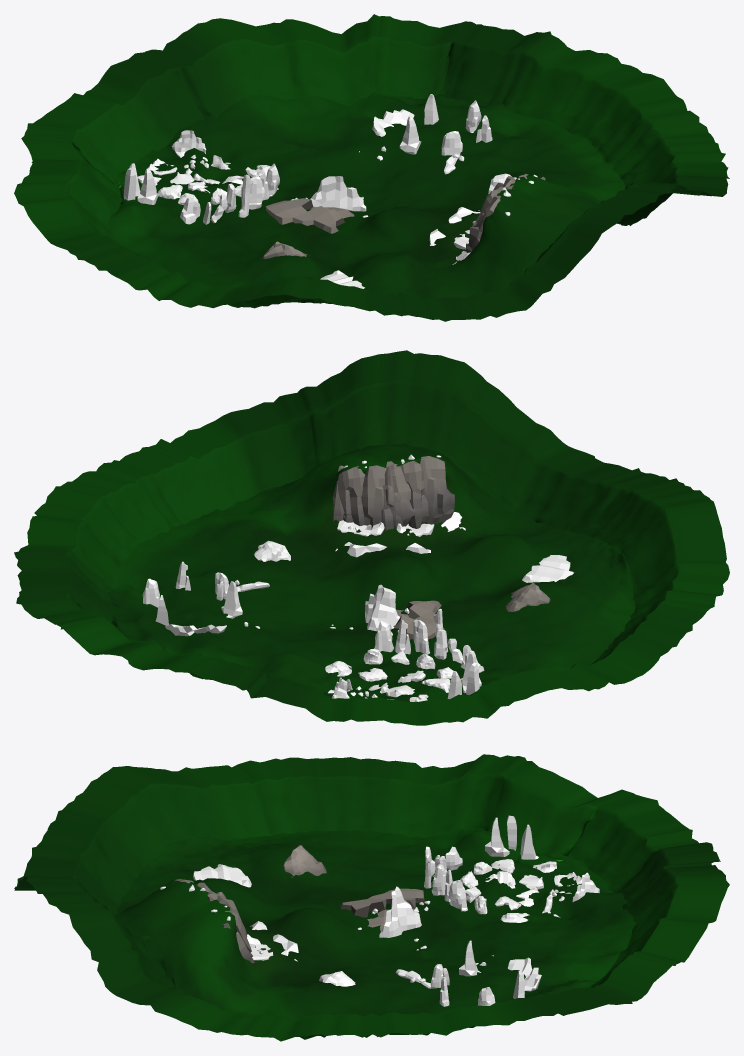
File: Overworld.fbx
3 views of the same model, one above another, from view 1: azimuth 30°, elevation 25°; view 2: azimuth 150°, elevation 25°; view 3: azimuth 270°, elevation 25° (orthographic).
Parts seen in each view (by area): view 1: Plane, rock.046, rock.005, rock.040, rock.044, rock.026, rock.043, rock.004; view 2: Plane, rock.040, rock.005, rock.046, rock.061, rock.047; view 3: Plane, rock.046, rock.005, rock.040, rock.047, rock.061, rock.044, rock.004.
Part boxes in pixels (<box>): Plane: <box>14,14,729,321</box>; rock.046: <box>265,198,354,233</box>; rock.005: <box>310,176,366,211</box>; rock.040: <box>466,173,545,252</box>; rock.044: <box>372,109,414,136</box>; rock.026: <box>172,130,206,157</box>; rock.043: <box>399,116,421,154</box>; rock.004: <box>137,168,158,204</box>; Plane: <box>14,350,729,725</box>; rock.040: <box>332,456,454,530</box>; rock.005: <box>365,584,400,631</box>; rock.046: <box>393,600,444,639</box>; rock.061: <box>522,555,573,582</box>; rock.047: <box>505,583,550,611</box>; Plane: <box>14,754,729,1041</box>; rock.046: <box>340,888,424,930</box>; rock.005: <box>379,886,421,937</box>; rock.040: <box>175,878,254,963</box>; rock.047: <box>283,845,326,877</box>; rock.061: <box>193,864,251,887</box>; rock.044: <box>507,957,541,991</box>; rock.004: <box>485,817,509,856</box>.
Bounding box in the file's own units: 80551 × 16878 × 81747.
